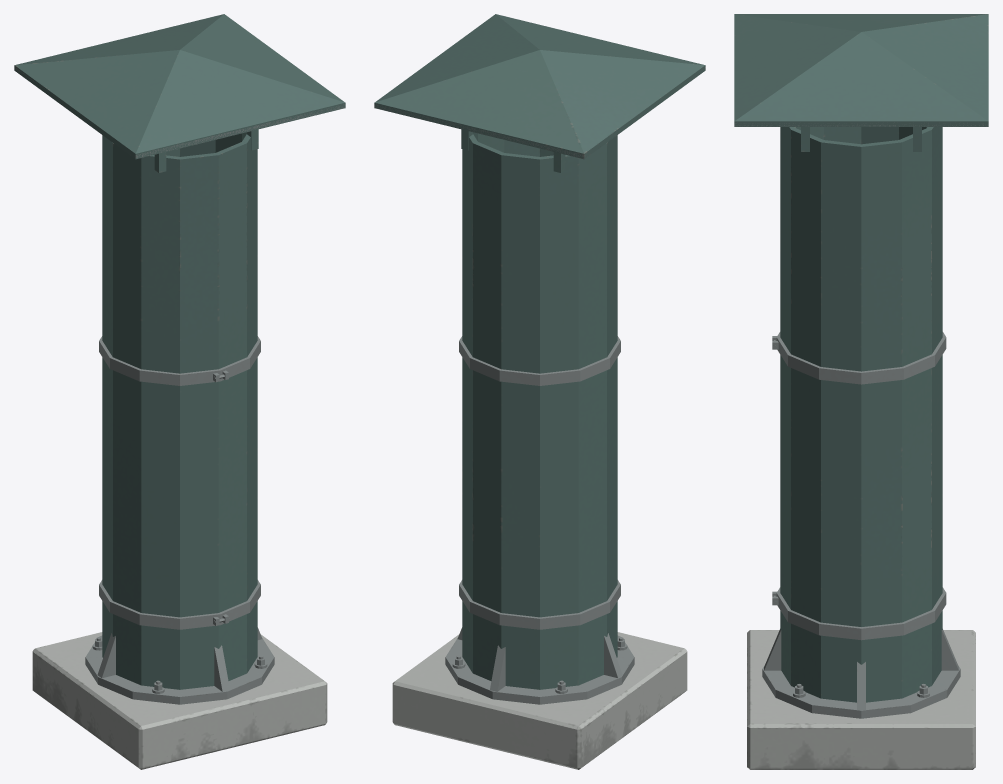
File: bunker_ventilation_shaft_tall.glb
3 views of the same model, side by side, from view 1: azimuth 30°, elevation 25°; view 2: azimuth 150°, elevation 25°; view 3: azimuth 270°, elevation 25° (orthographic). The views are drawn at different scales.
Parts seen in each view (by area): view 1: VentilationShaft; view 2: VentilationShaft; view 3: VentilationShaft.
Part boxes in pixels (x1,y1,x2,y2): VentilationShaft: (14, 14, 345, 769); VentilationShaft: (374, 14, 705, 769); VentilationShaft: (734, 14, 988, 769).
Size of what is drawn, in the model's own units: 1 by 3 by 1.
Materials: 1 (1 with a texture image).
